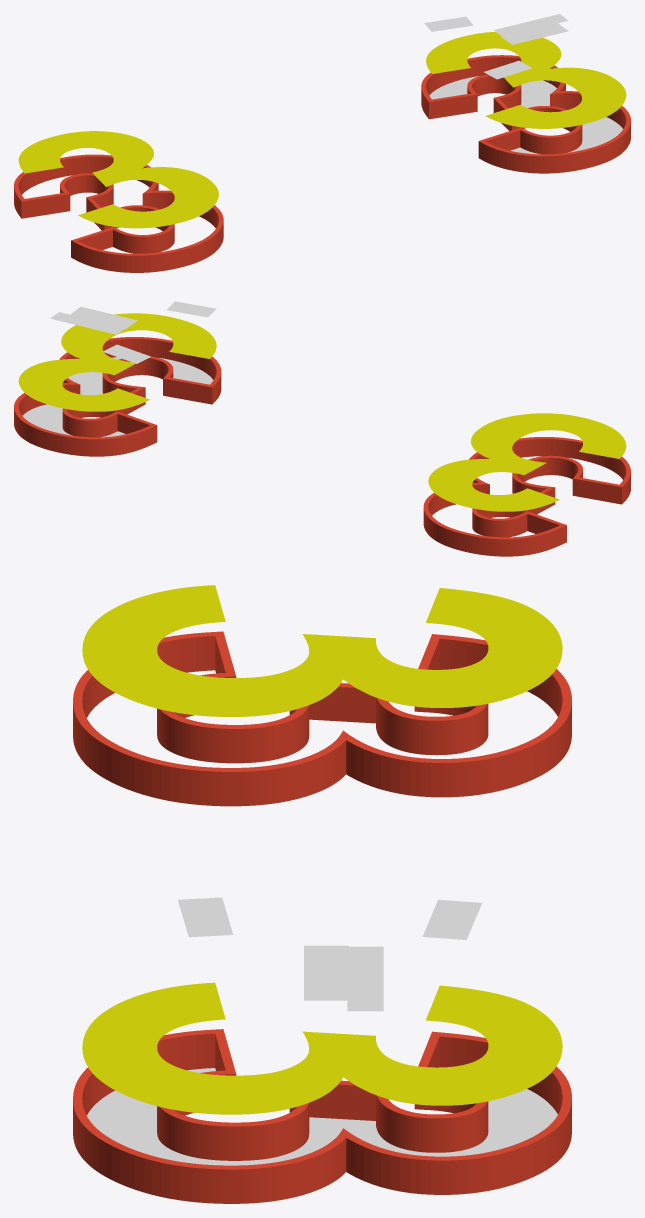
3 views of the same model, one above another, from view 1: azimuth 30°, elevation 25°; view 2: azimuth 150°, elevation 25°; view 3: azimuth 270°, elevation 25° (orthographic). The views are drawn at different scales.
Visible parts, largest first — view 1: 3_show_border, 3_border, 3_show_fill, 3_paint_2, 3_paint_1, 3_origin, trigger_3_2_start, trigger_3_1_end, trigger_3_1_start, trigger_3_2_end; view 2: 3_show_border, 3_border, 3_show_fill, 3_paint_1, 3_paint_2, 3_origin, trigger_3_2_start, trigger_3_1_end, trigger_3_1_start, trigger_3_2_end; view 3: 3_border, 3_show_border, 3_show_fill, 3_paint_2, 3_paint_1, 3_origin, trigger_3_2_start, trigger_3_1_end, trigger_3_2_end, trigger_3_1_start.
Boxes of the visible parts, <box> form: 3_show_border: <box>14,154,223,272</box>; 3_border: <box>421,55,630,173</box>; 3_show_fill: <box>18,131,218,228</box>; 3_paint_2: <box>486,67,626,128</box>; 3_paint_1: <box>426,32,561,87</box>; 3_origin: <box>429,76,623,154</box>; trigger_3_2_start: <box>501,23,568,44</box>; trigger_3_1_end: <box>493,14,568,36</box>; trigger_3_1_start: <box>424,16,473,31</box>; trigger_3_2_end: <box>484,60,532,79</box>; 3_show_border: <box>423,437,630,556</box>; 3_border: <box>14,337,221,456</box>; 3_show_fill: <box>428,413,626,511</box>; 3_paint_1: <box>18,359,149,411</box>; 3_paint_2: <box>61,313,216,362</box>; 3_origin: <box>22,357,213,437</box>; trigger_3_2_start: <box>70,306,137,328</box>; trigger_3_1_end: <box>50,312,125,334</box>; trigger_3_1_start: <box>103,344,150,363</box>; trigger_3_2_end: <box>167,301,216,317</box>; 3_border: <box>73,1029,571,1203</box>; 3_show_border: <box>73,631,571,806</box>; 3_show_fill: <box>82,585,562,716</box>; 3_paint_2: <box>82,982,342,1114</box>; 3_paint_1: <box>303,985,562,1105</box>; 3_origin: <box>87,1068,557,1165</box>; trigger_3_2_start: <box>304,945,348,1000</box>; trigger_3_1_end: <box>347,946,383,1011</box>; trigger_3_2_end: <box>178,897,233,937</box>; trigger_3_1_start: <box>422,899,481,939</box>.
Size of the model in its own units: 1.35 by 0.2 by 0.5304.
